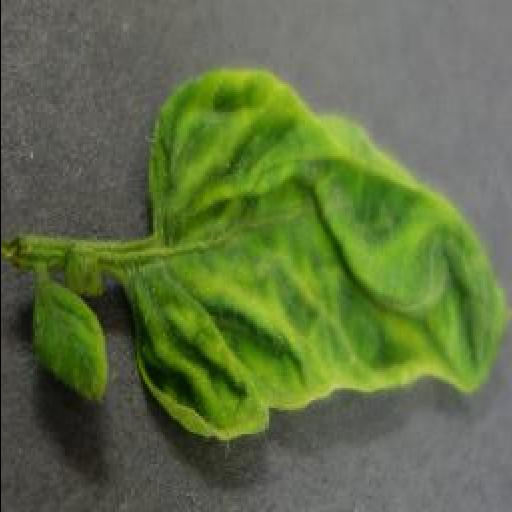disease_tomato: (130, 66, 504, 440), (32, 286, 110, 406)
